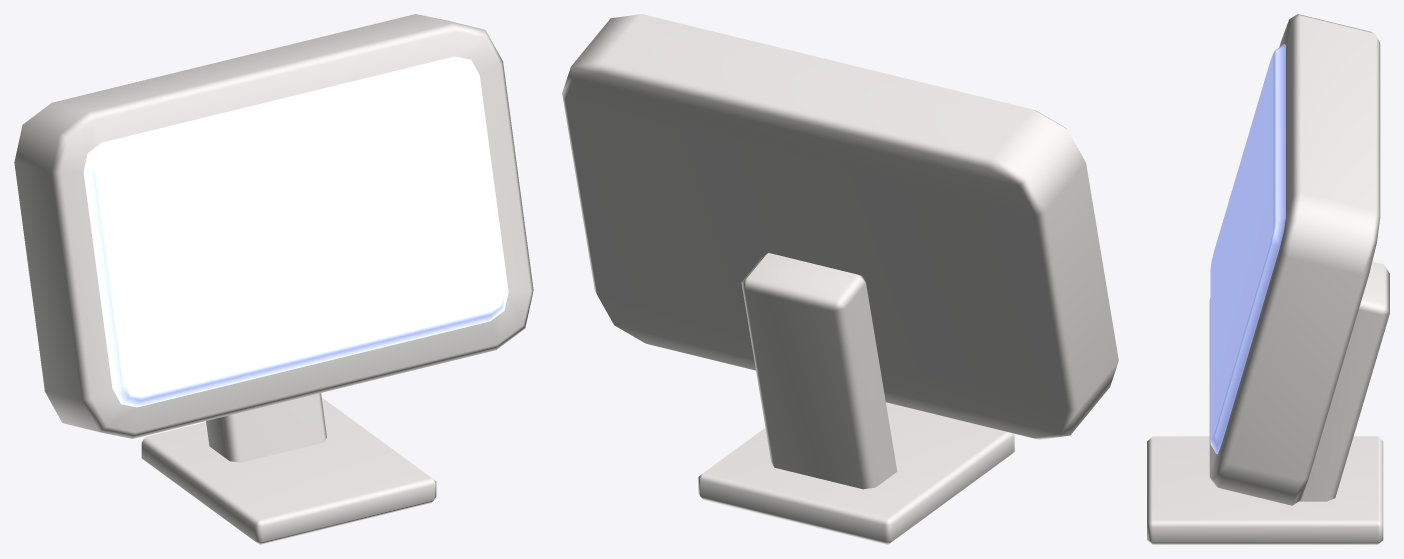
File: PC_Monitor_1.glb
3 renders of one model, left to right at view 1: azimuth 30°, elevation 25°; view 2: azimuth 150°, elevation 25°; view 3: azimuth 270°, elevation 25°, orthographic. The views are drawn at different scales.
Visible parts, largest first — view 1: PC_Monitor_1; view 2: PC_Monitor_1; view 3: PC_Monitor_1.
Part boxes in pixels (x1,y1,x2,y2): PC_Monitor_1: (14,14,533,544); PC_Monitor_1: (562,14,1118,544); PC_Monitor_1: (1147,14,1389,544).
Bounding box in the file's own units: 0.7684 × 0.653 × 0.3602.
2 materials, 1 textured.
